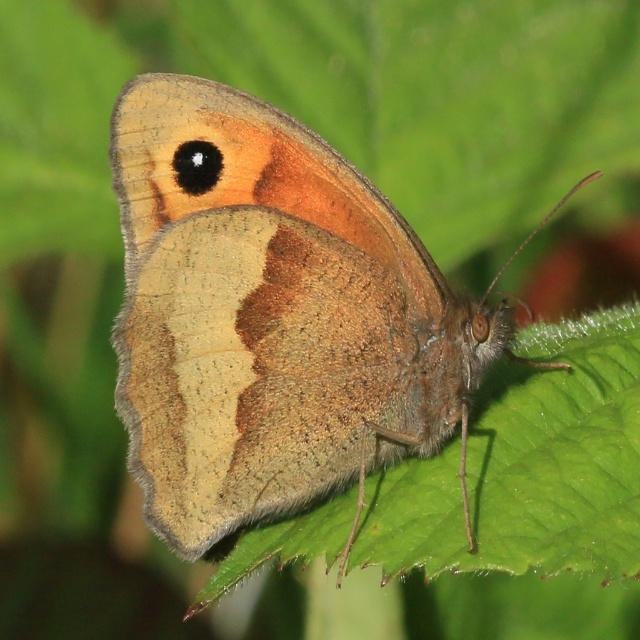Butterfly: (96, 52, 631, 606)
